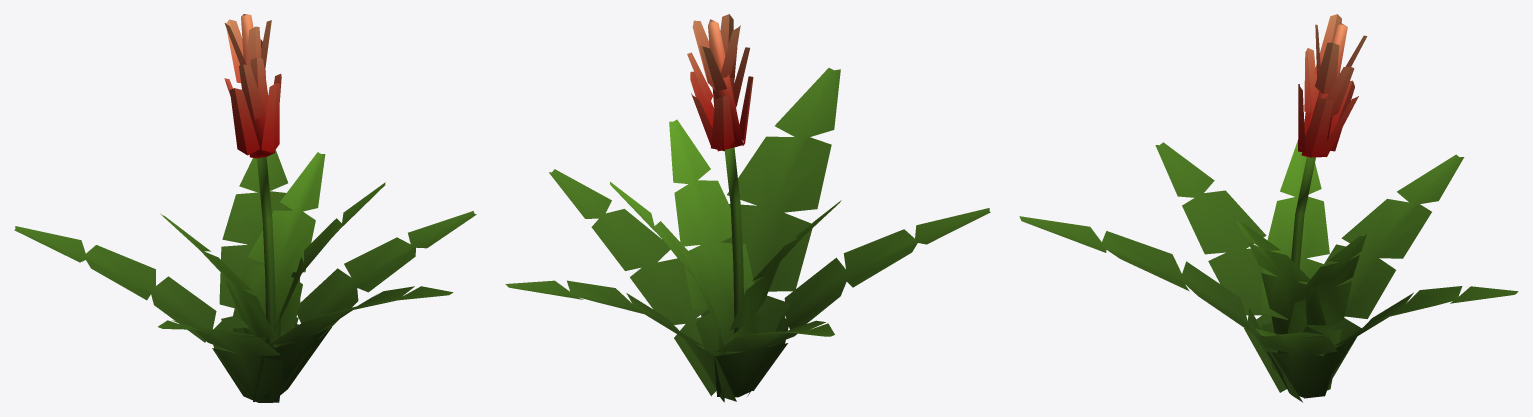
The model's file is flower01.fbx.
3 renders of one model, left to right at view 1: azimuth 30°, elevation 25°; view 2: azimuth 150°, elevation 25°; view 3: azimuth 270°, elevation 25°, orthographic. The views are drawn at different scales.
Parts seen in each view (by area): view 1: Clump8; view 2: Clump8; view 3: Clump8.
Boxes of the visible parts, <box> form: Clump8: <box>14,14,476,402</box>; Clump8: <box>505,14,990,402</box>; Clump8: <box>1019,14,1518,402</box>.
Size of the model in its own units: 149 by 142 by 174.
